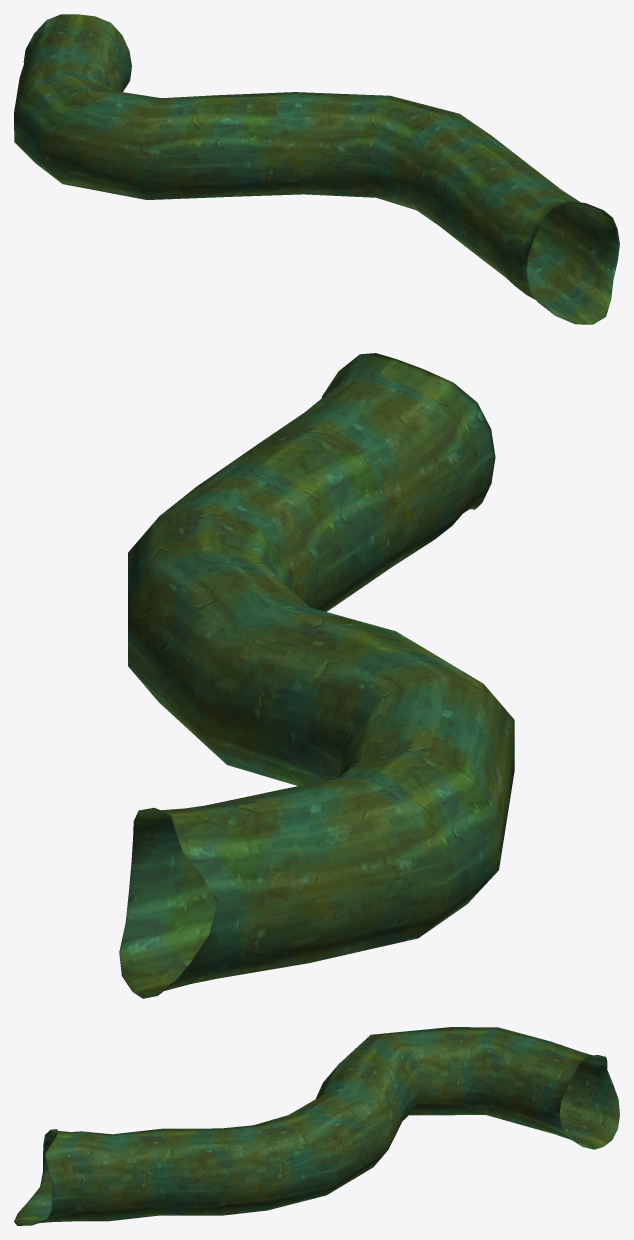
Rendered from MIRKWOOD_MIRK_PLAYSURFACE91.fbx.
3 renders of one model, top to bottom at view 1: azimuth 30°, elevation 25°; view 2: azimuth 150°, elevation 25°; view 3: azimuth 270°, elevation 25°, orthographic. The views are drawn at different scales.
Visible parts, largest first — view 1: MIRKWOOD_MIRK_PLAYSURFACE91; view 2: MIRKWOOD_MIRK_PLAYSURFACE91; view 3: MIRKWOOD_MIRK_PLAYSURFACE91.
Boxes of the visible parts, x1,y1,x2,y2 form: MIRKWOOD_MIRK_PLAYSURFACE91: (14,14,619,324); MIRKWOOD_MIRK_PLAYSURFACE91: (119,353,514,998); MIRKWOOD_MIRK_PLAYSURFACE91: (14,1027,619,1225).
Bounding box in the file's own units: 152695 × 48912 × 276796.
1 material, 1 textured.
